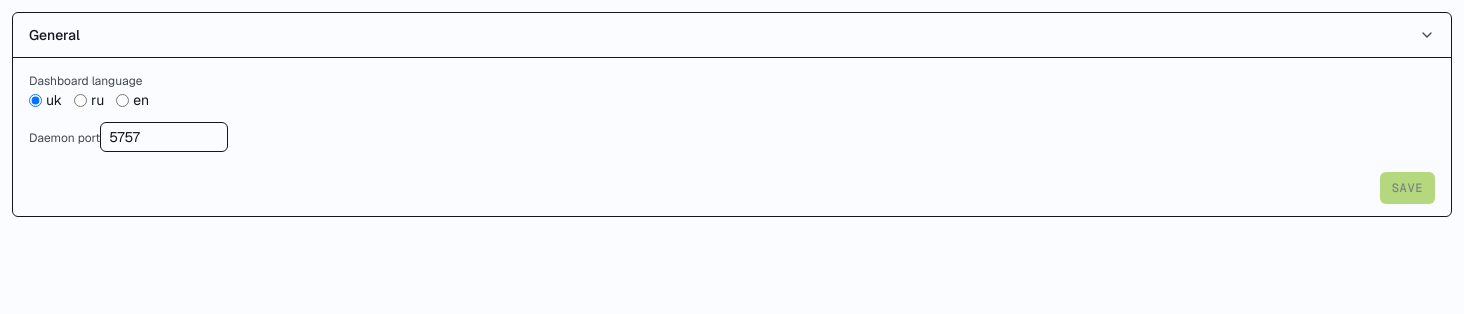
Test: GlobalGeneralSection › changes daemon_port and PATCHes /settings/global
The image size is (1464, 314).
Later steps or results of the test are not shown.
Expected: the text "General" is shown, [29,25,80,45]
Step 1. Replace the text in the number field showing "5757" with "6000" → {"x": 164, "y": 137}, box [100,122,228,152]
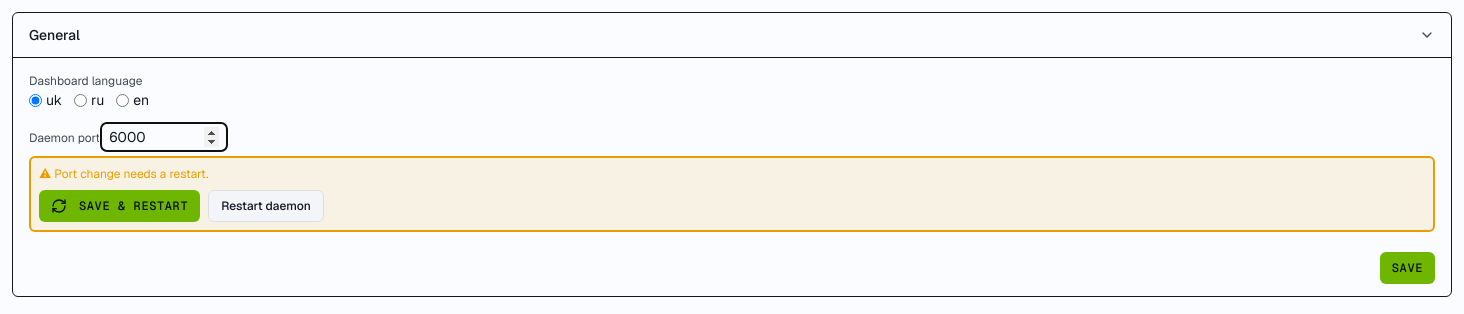
Result: the button "Save" is enabled at [1380,252,1435,284]
